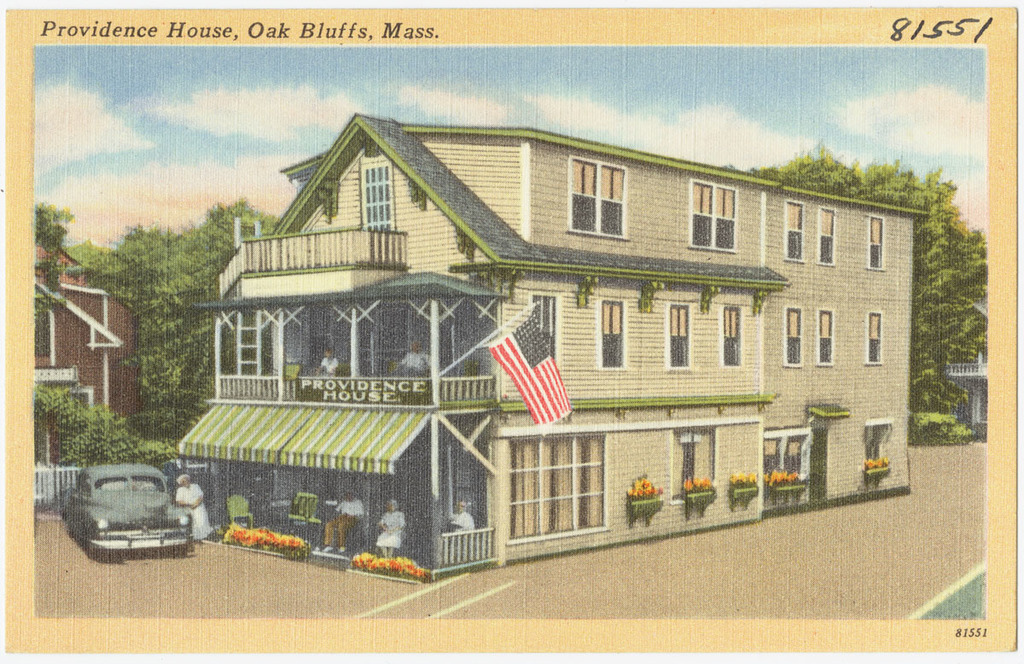Car: (58, 465, 192, 557)
